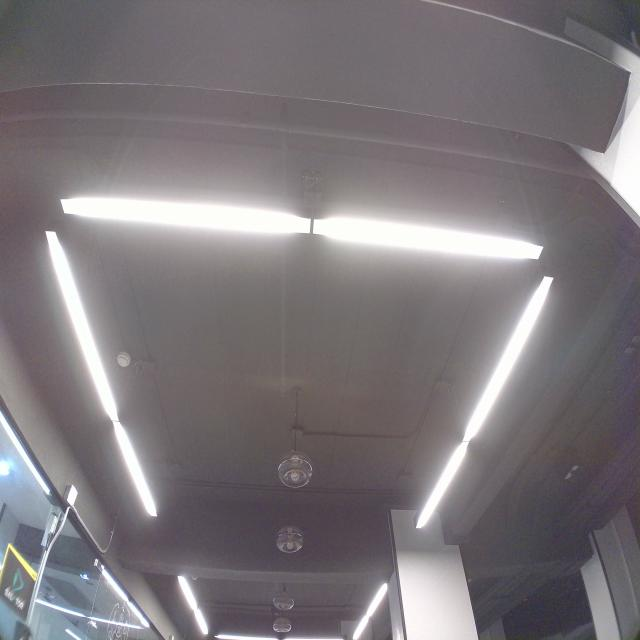lamp2_on: (54, 182, 557, 276), (405, 271, 560, 540), (39, 224, 172, 522)
